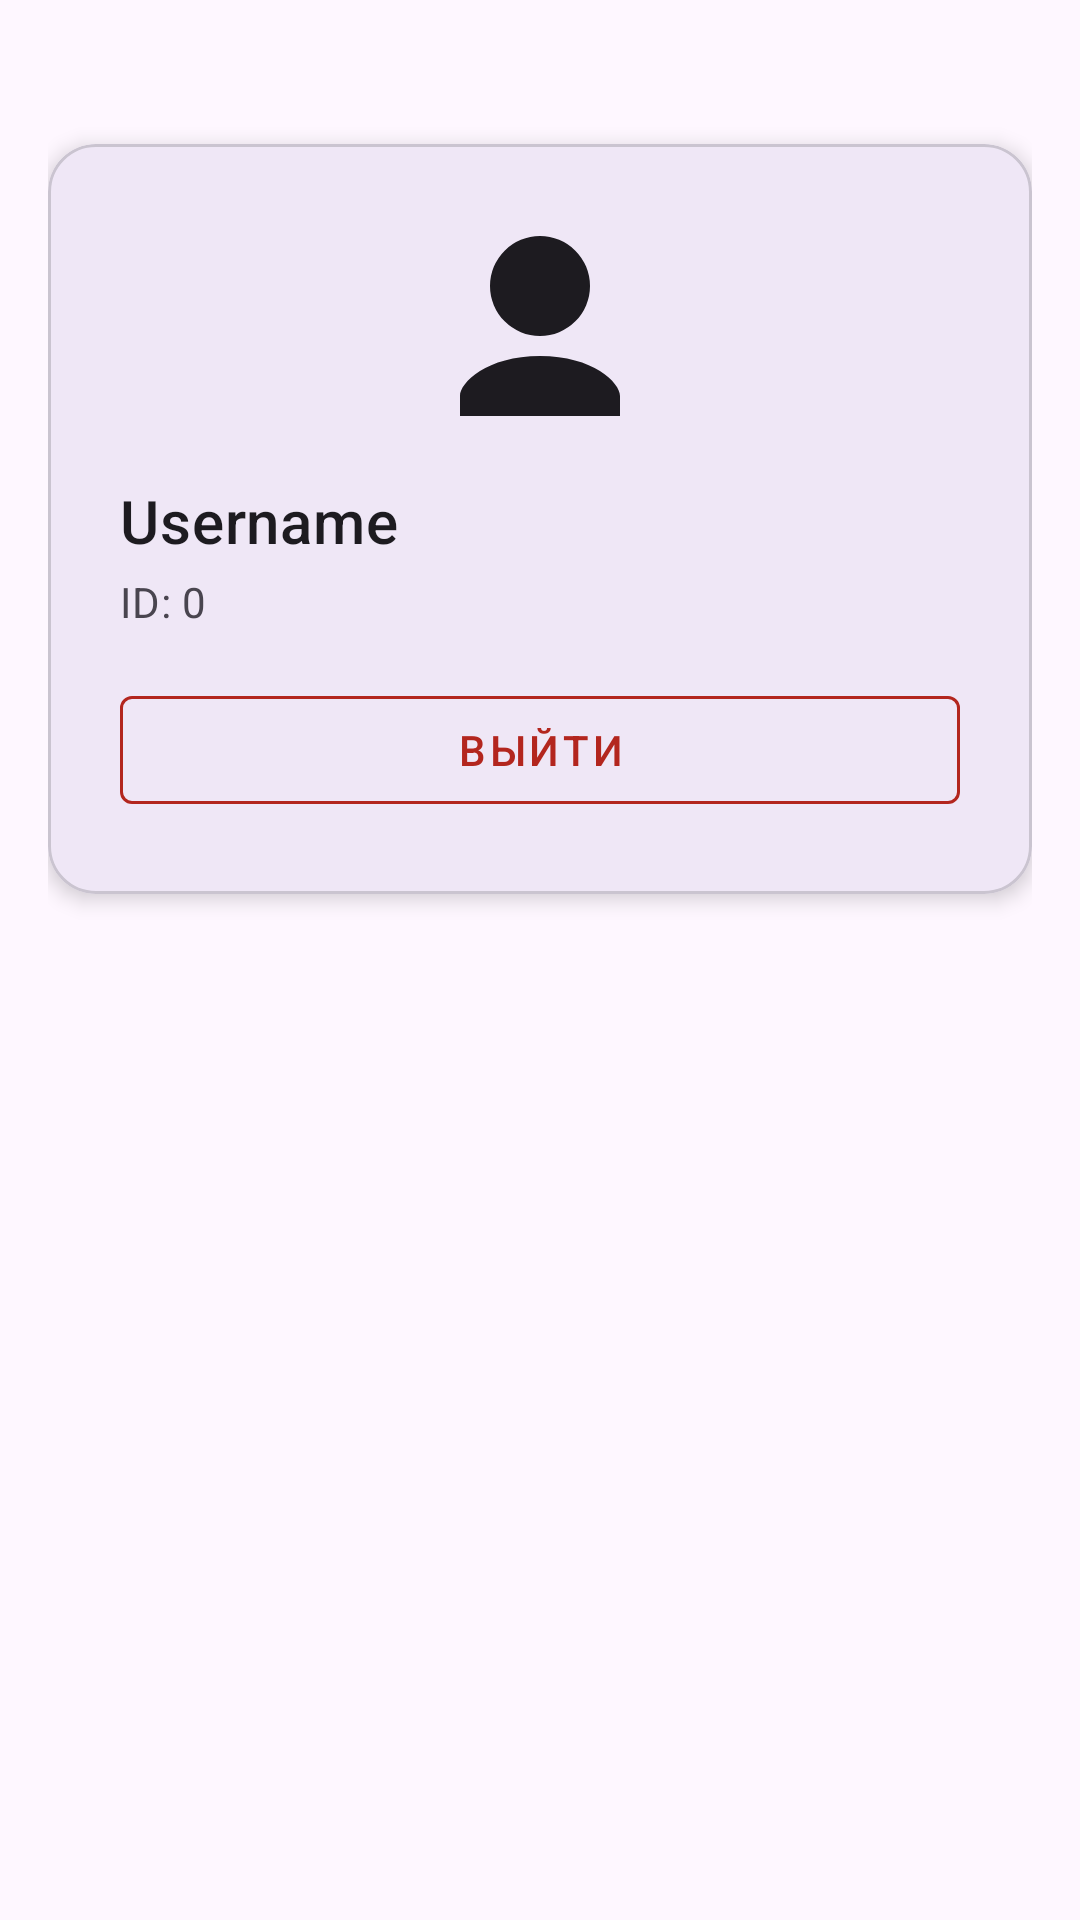

Where icons sit on this 1080x1920 app screen, as bbox(x1, y1, x2, y2):
Avatar: bbox(460, 236, 620, 416)
